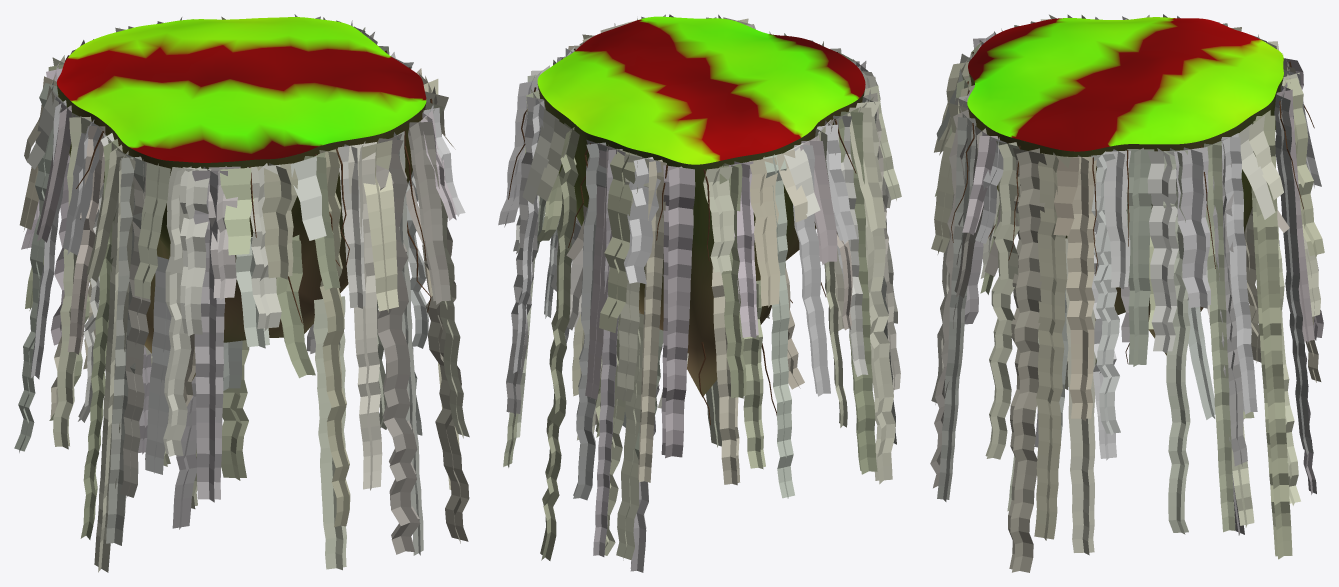
Rendered from SM_H10_Floater06.fbx.
3 views of the same model, side by side, from view 1: azimuth 30°, elevation 25°; view 2: azimuth 150°, elevation 25°; view 3: azimuth 270°, elevation 25° (orthographic). The views are drawn at different scales.
Parts seen in each view (by area): view 1: SM_H10_Floater06_Ivy, SM_H10_Floater06; view 2: SM_H10_Floater06_Ivy, SM_H10_Floater06; view 3: SM_H10_Floater06_Ivy, SM_H10_Floater06.
Boxes of the visible parts, x1,y1,x2,y2 form: SM_H10_Floater06_Ivy: (14,14,469,572); SM_H10_Floater06: (57,17,426,380); SM_H10_Floater06_Ivy: (498,14,901,572); SM_H10_Floater06: (537,16,865,397); SM_H10_Floater06_Ivy: (930,14,1324,572); SM_H10_Floater06: (967,17,1283,355).
Bounding box in the file's own units: 24 × 31.57 × 24.38.
